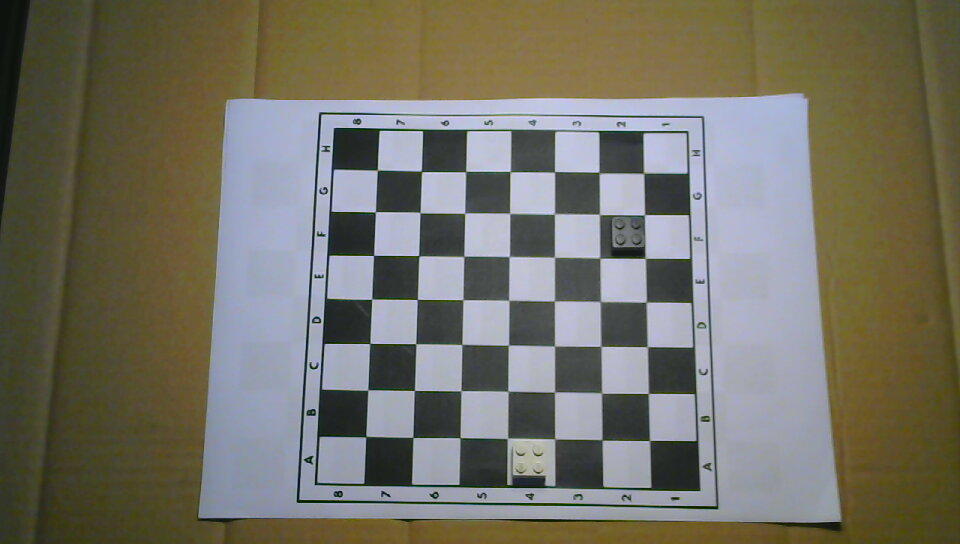bp: (608, 214, 647, 256)
wp: (510, 441, 549, 482)
